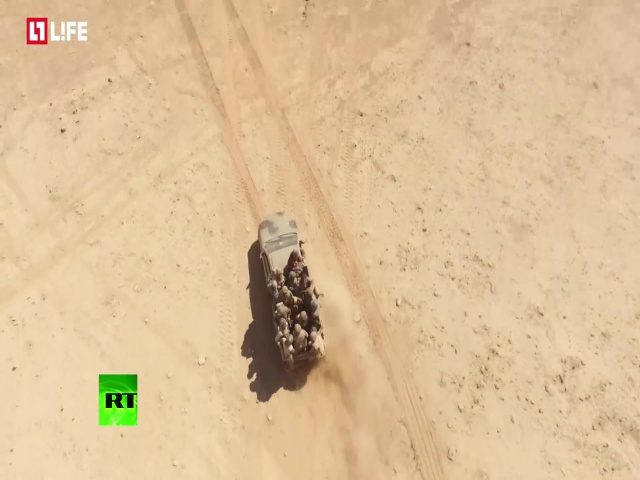vehicle: (257, 209, 328, 368)
